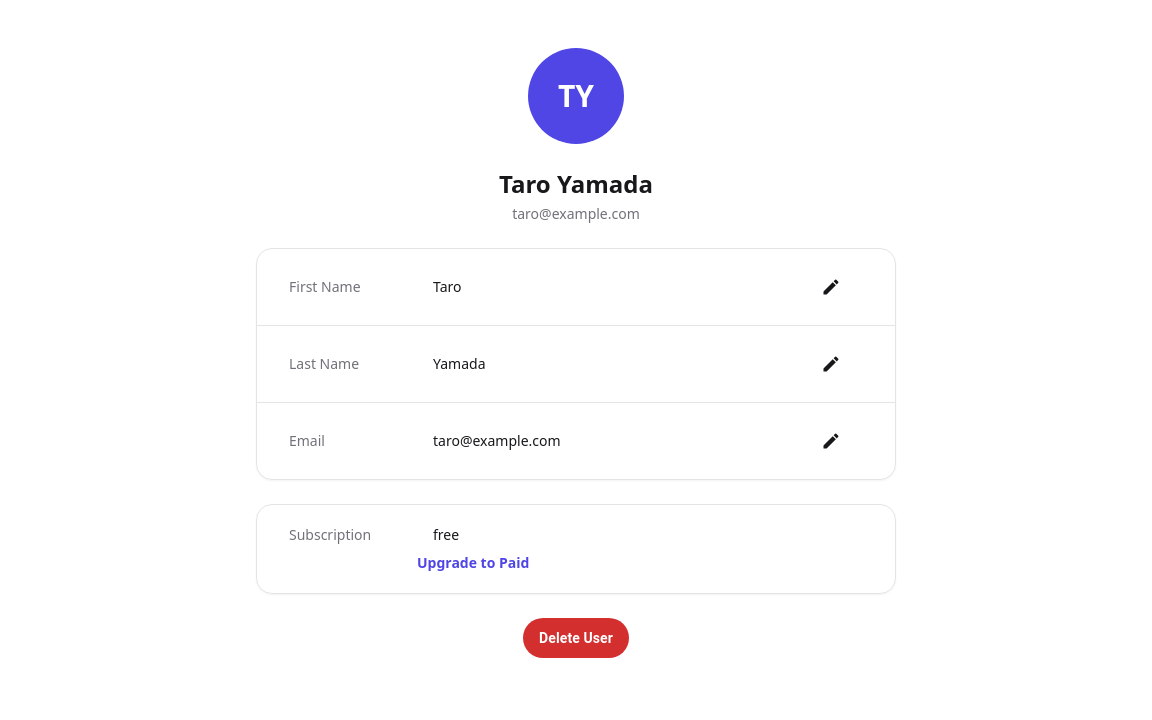
it: UserProfileView › opens a confirmation dialog when Delete User is clicked
Click the button "Delete User" at coordinates (576, 638), box [523, 618, 629, 658]
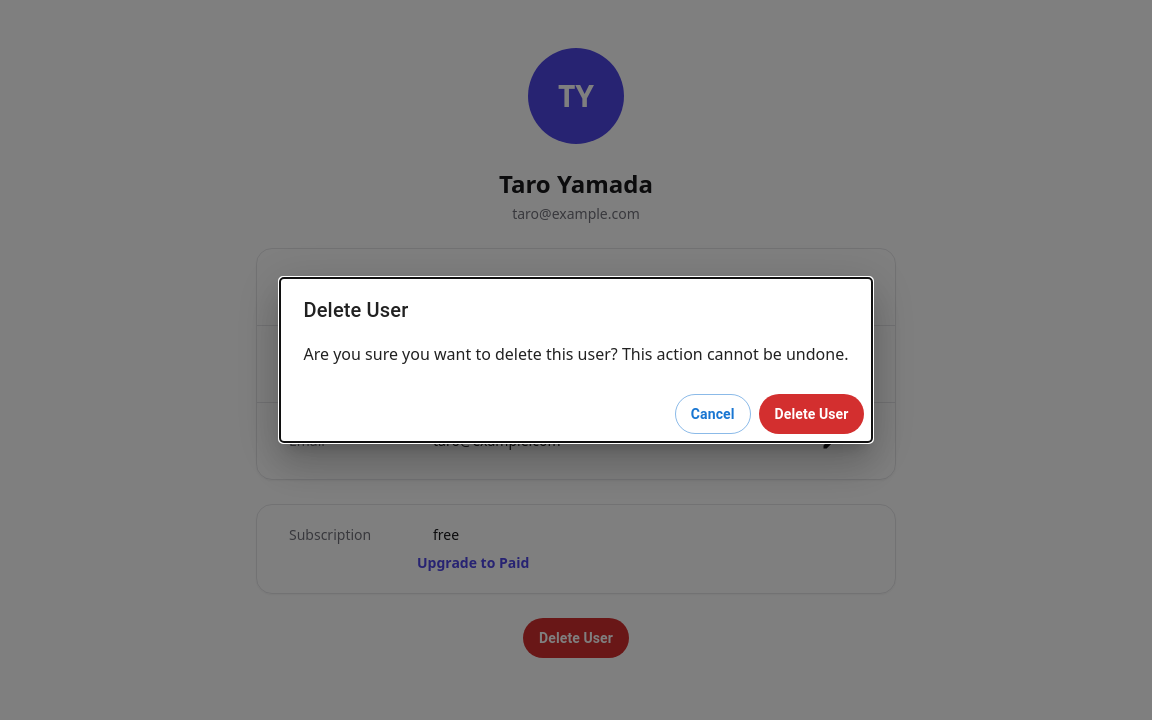
Expected: the text "Are you sure you want to delete this user?" is shown, [304, 343, 848, 365]
